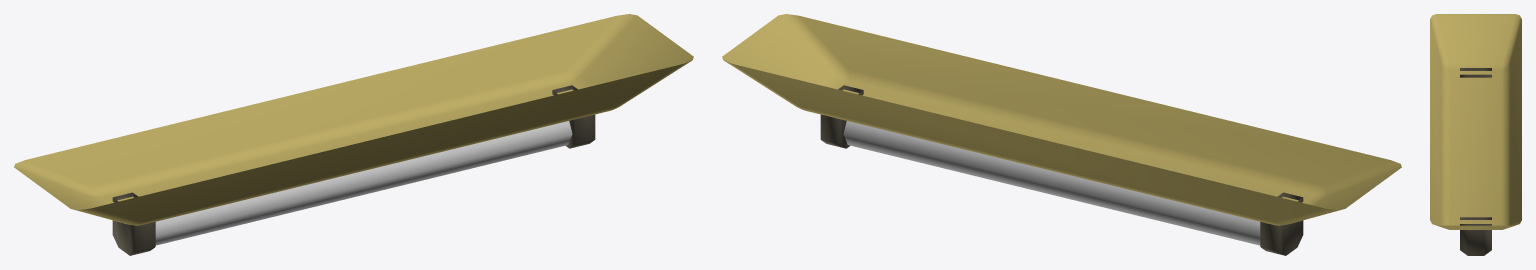
File: Lampada.fbx
3 views of the same model, side by side, from view 1: azimuth 30°, elevation 25°; view 2: azimuth 150°, elevation 25°; view 3: azimuth 270°, elevation 25° (orthographic). The views are drawn at different scales.
Visible parts, largest first — view 1: SuporteLow, LampadaLow, ConectorLow; view 2: SuporteLow, LampadaLow, ConectorLow; view 3: SuporteLow, ConectorLow.
Part boxes in pixels (x1,y1,x2,y2): SuporteLow: [14, 14, 693, 225]; LampadaLow: [155, 121, 572, 245]; ConectorLow: [112, 85, 595, 255]; SuporteLow: [722, 14, 1401, 225]; LampadaLow: [843, 121, 1260, 245]; ConectorLow: [820, 85, 1303, 255]; SuporteLow: [1430, 14, 1521, 229]; ConectorLow: [1460, 68, 1491, 255].
Bounding box in the file's own units: 156 × 20 × 28.6.
